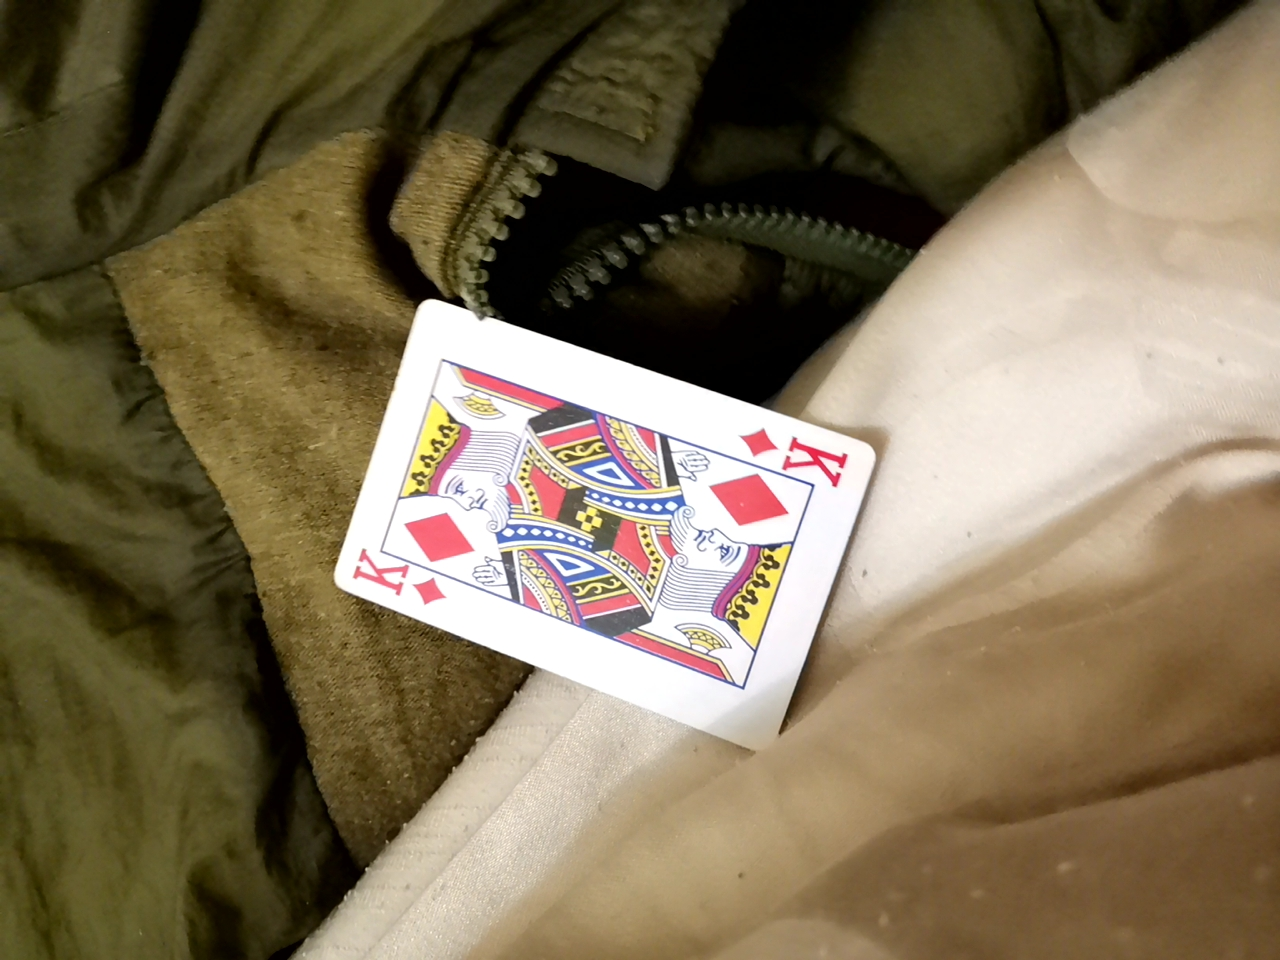fk k: (314, 288, 884, 739)
